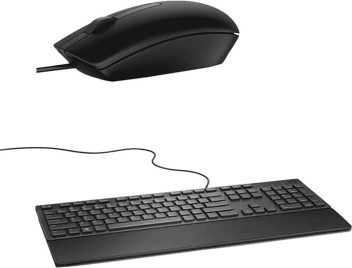dell-mouse-ms116: (33, 1, 240, 83)
